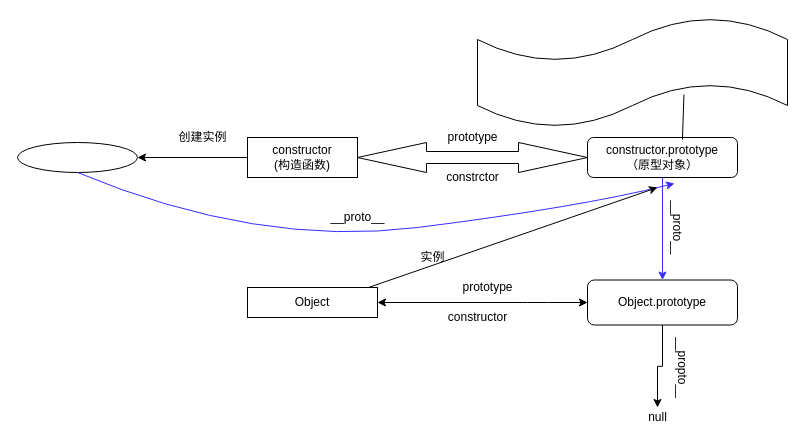
This 805x445 diagram has some shape labels left out. Each missing label, with the box of its shape:
constructor.prototype=new Object constructor的原型对象等于Object的实例实现继承: (476, 16, 788, 128)
实例对象: (16, 142, 138, 172)
